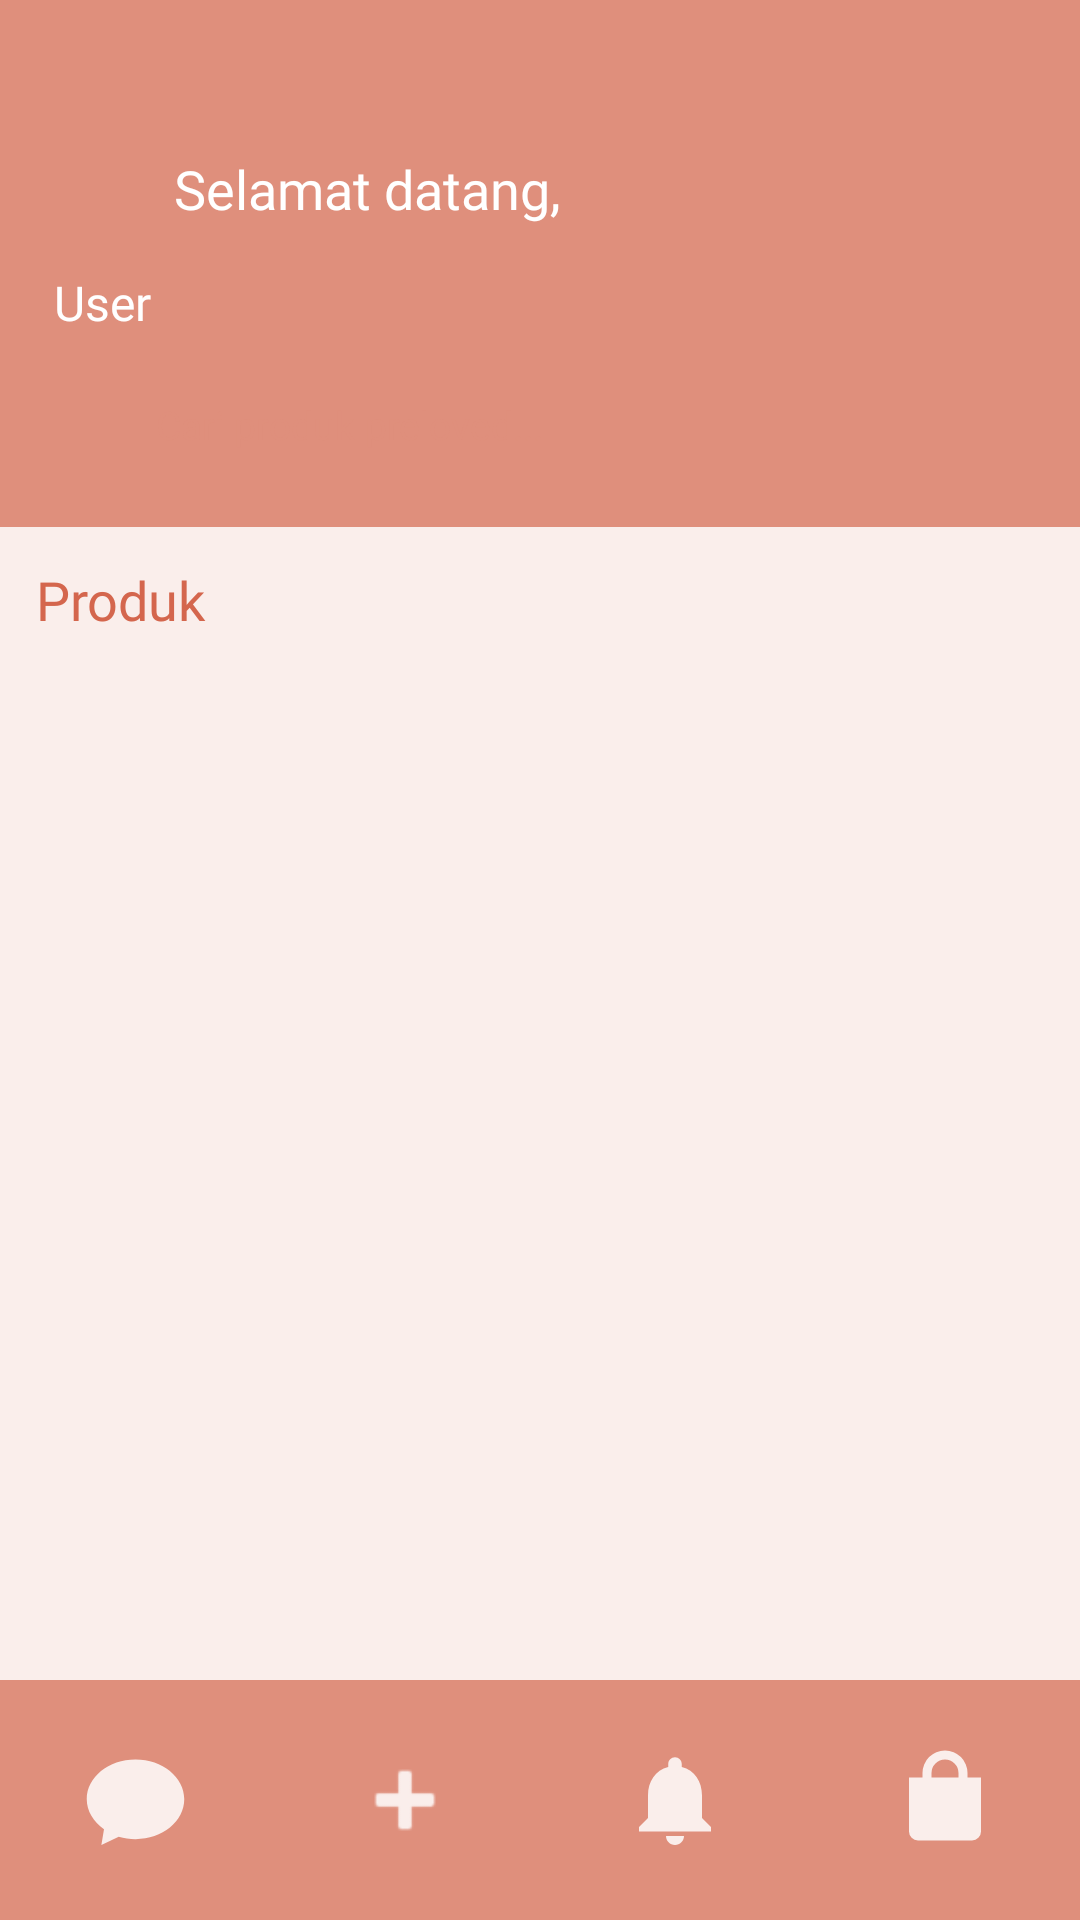

Screen size 1080px×1920px. Icon name, then its box in pixels as {"left": x1, "top": y1, "right": x2, "bottom": y2}:
add: {"left": 375, "top": 1770, "right": 435, "bottom": 1830}
chat: {"left": 86, "top": 1759, "right": 185, "bottom": 1845}
notif: {"left": 639, "top": 1757, "right": 711, "bottom": 1845}
produk: {"left": 909, "top": 1750, "right": 981, "bottom": 1841}
